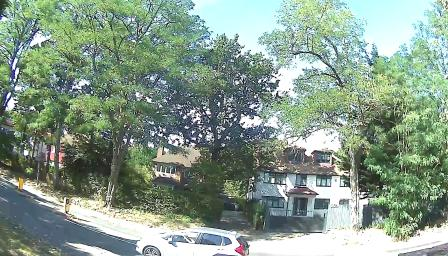Cars: (131, 217, 263, 256)
